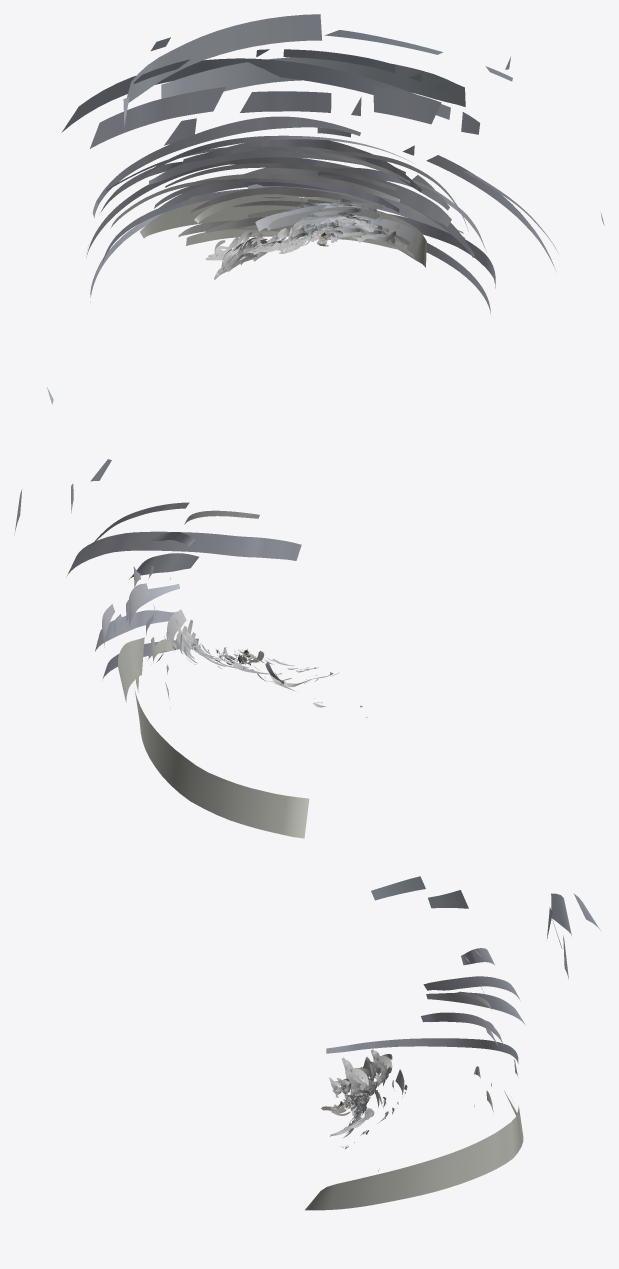
File: loaderWanderer.glb
3 renders of one model, top to bottom at view 1: azimuth 30°, elevation 25°; view 2: azimuth 150°, elevation 25°; view 3: azimuth 270°, elevation 25°, orthographic. The views are drawn at different scales.
Visible parts, largest first — view 1: brush_Ink_g0_b1_3, brush_Ink_g0_b2_4; view 2: brush_Ink_g0_b1_3, brush_Ink_g0_b2_4; view 3: brush_Ink_g0_b1_3, brush_Ink_g0_b2_4.
Boxes of the visible parts, x1,y1,x2,y2 form: brush_Ink_g0_b1_3: (86, 116, 495, 313); brush_Ink_g0_b2_4: (61, 14, 604, 271); brush_Ink_g0_b1_3: (95, 510, 367, 838); brush_Ink_g0_b2_4: (14, 387, 301, 626); brush_Ink_g0_b1_3: (305, 948, 525, 1210); brush_Ink_g0_b2_4: (371, 876, 600, 979).
Bounding box in the file's own units: 582 × 254 × 497.
